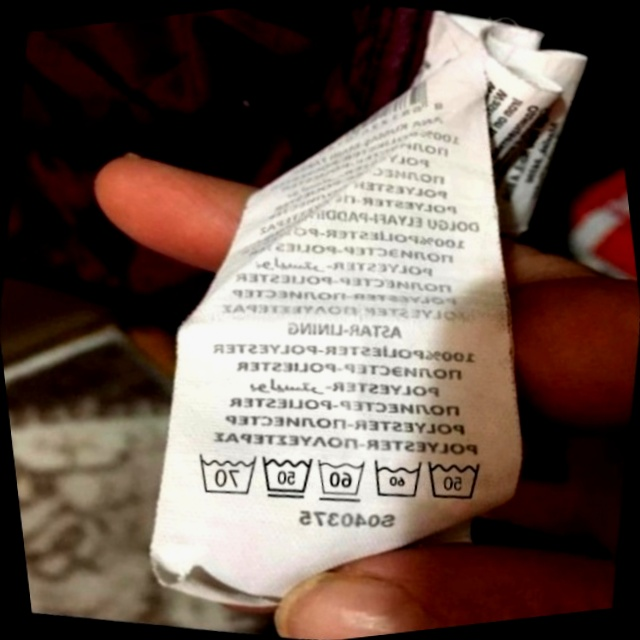50C: (414, 443, 494, 515), (249, 443, 322, 511)
60C: (304, 446, 374, 512), (361, 447, 431, 511)
70C: (184, 440, 263, 507)
